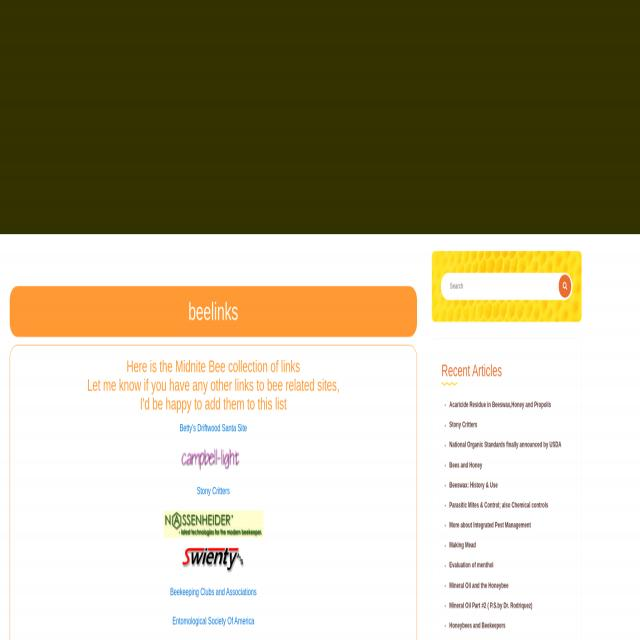button: (164, 511, 264, 538), (178, 442, 242, 473), (182, 548, 244, 573), (559, 275, 571, 297)
field: (441, 272, 573, 300)
